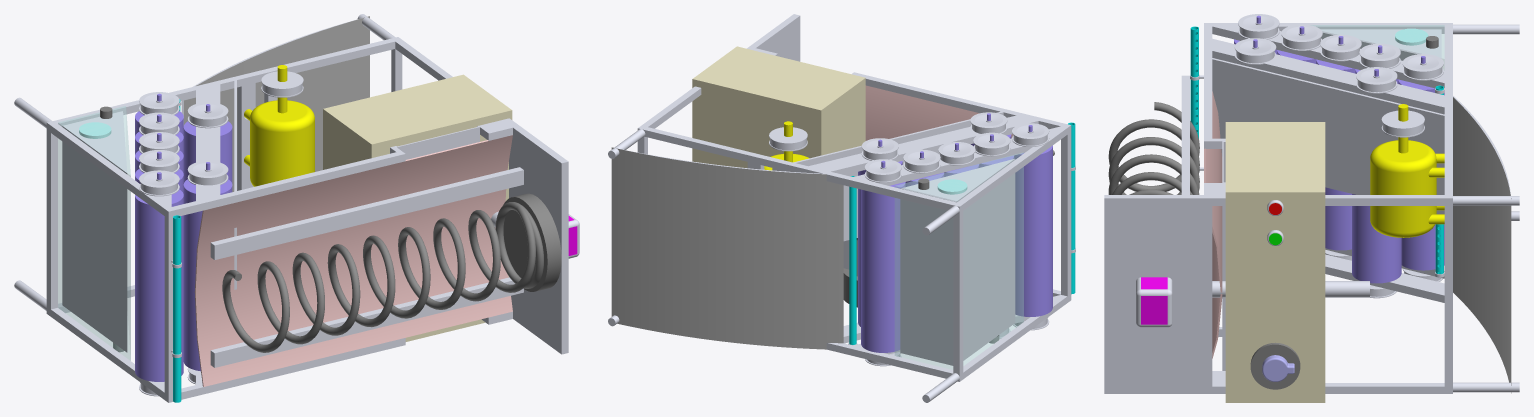
The model's file is ufo.glb.
The picture shows the model from 3 angles, left to right: view 1: azimuth 30°, elevation 25°; view 2: azimuth 150°, elevation 25°; view 3: azimuth 270°, elevation 25°; orthographic projection. The views are drawn at different scales.
Parts seen in each view (by area): view 1: Part2-1, Part3-2, feeder coil-2, Part1gfbhf-1, electrical box-1, brush-5, Part4-2, brush-4, nozzle-1, brush-6, pulley-1, pulley-7 (+6 smaller); view 2: Part2-1, electrical box-1, brush-3, brush-5, Part3-2, Part1gfbhf-1, nozzle-2, nozzle-1, pulley-3, pulley-4, pulley-7, pulley-6 (+7 smaller); view 3: Part2-1, electrical box-1, Part1gfbhf-1, Part4-2, feeder coil-2, brush-6, Part3-2, brush-7, brush-3, pulley-1, pulley-3, pulleymotor-1 (+8 smaller).
Part boxes in pixels (left/top/right/bottom): Part2-1: left=14, top=14, right=519, bottom=402; Part3-2: left=194, top=135, right=512, bottom=386; feeder coil-2: left=222, top=193, right=561, bottom=352; Part1gfbhf-1: left=210, top=126, right=579, bottom=367; electrical box-1: left=323, top=74, right=512, bottom=341; brush-5: left=135, top=172, right=183, bottom=381; Part4-2: left=244, top=65, right=314, bottom=186; brush-4: left=183, top=162, right=232, bottom=371; nozzle-1: left=173, top=215, right=181, bottom=402; brush-6: left=183, top=104, right=232, bottom=183; pulley-1: left=187, top=102, right=228, bottom=128; pulley-7: left=139, top=170, right=179, bottom=196; Part2-1: left=608, top=46, right=1075, bottom=402; electrical box-1: left=692, top=46, right=865, bottom=168; brush-3: left=861, top=160, right=905, bottom=352; brush-5: left=1014, top=125, right=1052, bottom=316; Part3-2: left=865, top=85, right=1013, bottom=140; Part1gfbhf-1: left=749, top=14, right=800, bottom=61; nozzle-2: left=849, top=176, right=856, bottom=344; nozzle-1: left=1068, top=122, right=1075, bottom=294; pulley-3: left=864, top=159, right=901, bottom=182; pulley-4: left=903, top=149, right=940, bottom=173; pulley-7: left=1012, top=123, right=1049, bottom=146; pulley-6: left=973, top=132, right=1010, bottom=156; Part2-1: left=1190, top=23, right=1519, bottom=393; electrical box-1: left=1225, top=122, right=1325, bottom=402; Part1gfbhf-1: left=1104, top=75, right=1203, bottom=393; Part4-2: left=1370, top=104, right=1444, bottom=237; feeder coil-2: left=1108, top=102, right=1199, bottom=194; brush-6: left=1352, top=69, right=1401, bottom=283; Part3-2: left=1204, top=91, right=1222, bottom=358; brush-7: left=1316, top=36, right=1355, bottom=250; brush-3: left=1398, top=56, right=1444, bottom=270; pulley-1: left=1356, top=67, right=1397, bottom=93; pulley-3: left=1402, top=54, right=1443, bottom=80; pulleymotor-1: left=1381, top=110, right=1424, bottom=137.
Bounding box in the file's own units: 0.6921 × 0.3933 × 0.635.
